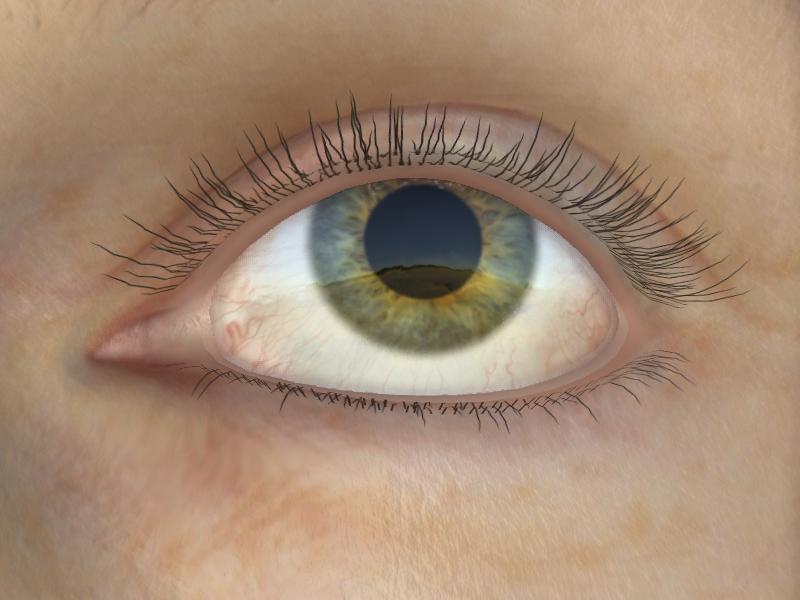eye: (310, 175, 534, 350)
